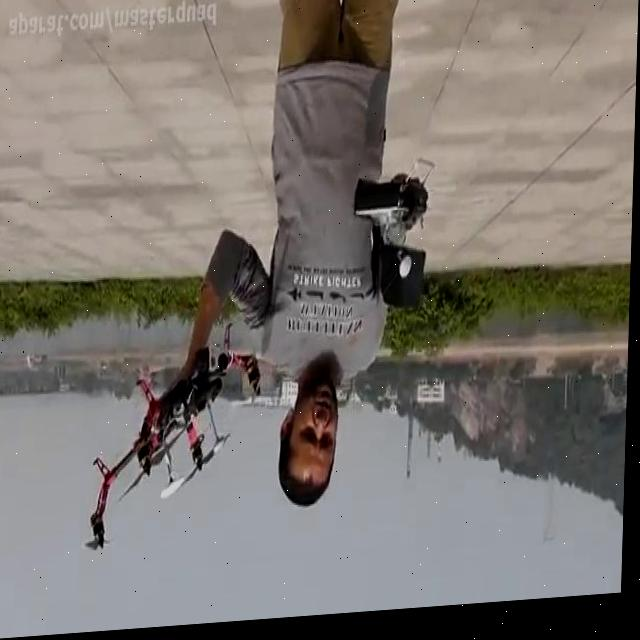drone: (84, 326, 267, 560)
